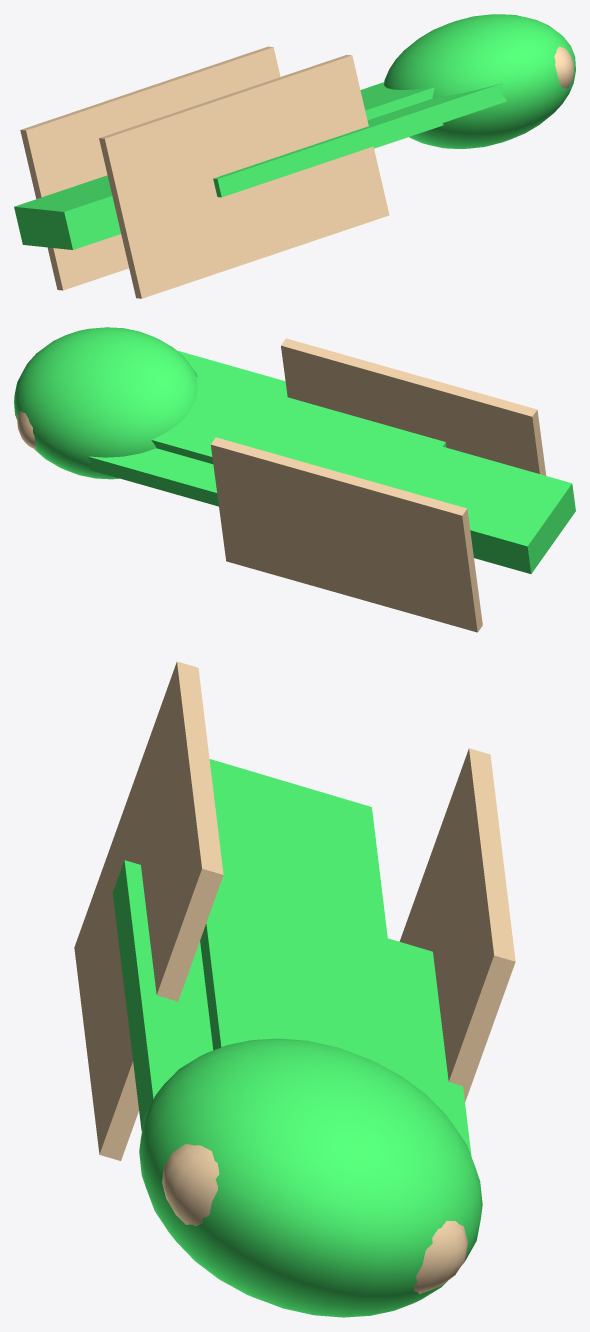
The model's file is Fish_GreenGills.fbx.
3 renders of one model, top to bottom at view 1: azimuth 30°, elevation 25°; view 2: azimuth 150°, elevation 25°; view 3: azimuth 270°, elevation 25°, orthographic. The views are drawn at different scales.
Visible parts, largest first — view 1: Cube__2_, Sphere, Cube__3_, Cube__4_, Cube__1_, Sphere_1; view 2: Cube__3_, Cube__4_, Sphere, Cube__2_, Cube__1_, Sphere_1; view 3: Sphere, Cube__4_, Cube__2_, Cube__3_, Cube__1_, Sphere_1.
Boxes of the visible parts, bbox=[...] form: Cube__2_: bbox=[99, 54, 389, 298]; Sphere: bbox=[384, 14, 575, 148]; Cube__3_: bbox=[20, 46, 280, 290]; Cube__4_: bbox=[14, 82, 443, 249]; Cube__1_: bbox=[213, 83, 506, 197]; Sphere_1: bbox=[554, 46, 573, 88]; Cube__3_: bbox=[210, 437, 482, 632]; Cube__4_: bbox=[151, 377, 575, 573]; Sphere: bbox=[14, 327, 197, 479]; Cube__2_: bbox=[281, 338, 546, 475]; Cube__1_: bbox=[88, 350, 446, 506]; Sphere_1: bbox=[17, 411, 36, 449]; Sphere: bbox=[139, 1038, 482, 1317]; Cube__4_: bbox=[200, 759, 404, 1077]; Cube__2_: bbox=[74, 661, 223, 1160]; Cube__3_: bbox=[399, 748, 515, 1102]; Cube__1_: bbox=[112, 860, 471, 1156]; Sphere_1: bbox=[162, 1144, 467, 1293].
Bounding box in the file's own units: 255 × 95.08 × 94.02.
